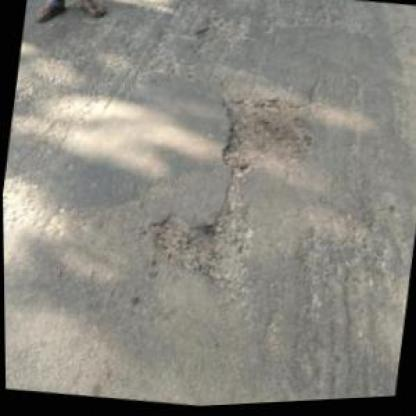pothole: (148, 202, 256, 300), (215, 90, 323, 187)
